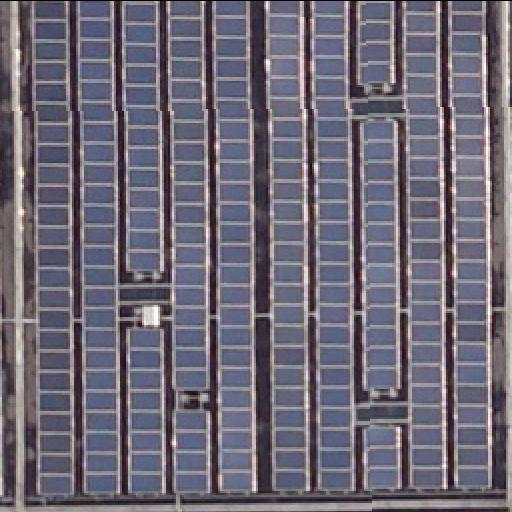solar-panel: (29, 1, 75, 495), (445, 0, 491, 492), (264, 1, 308, 495), (212, 1, 256, 495), (76, 1, 120, 495), (402, 0, 446, 492), (311, 1, 353, 495), (167, 0, 209, 392), (120, 0, 164, 272), (356, 121, 400, 391), (126, 329, 166, 495), (354, 1, 394, 87), (172, 410, 212, 494), (362, 424, 402, 492), (0, 327, 4, 497)
